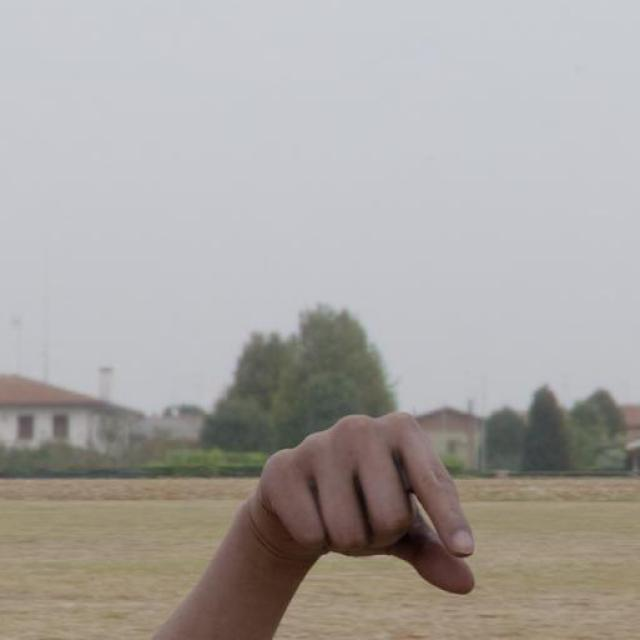Q: (244, 410, 477, 602)
